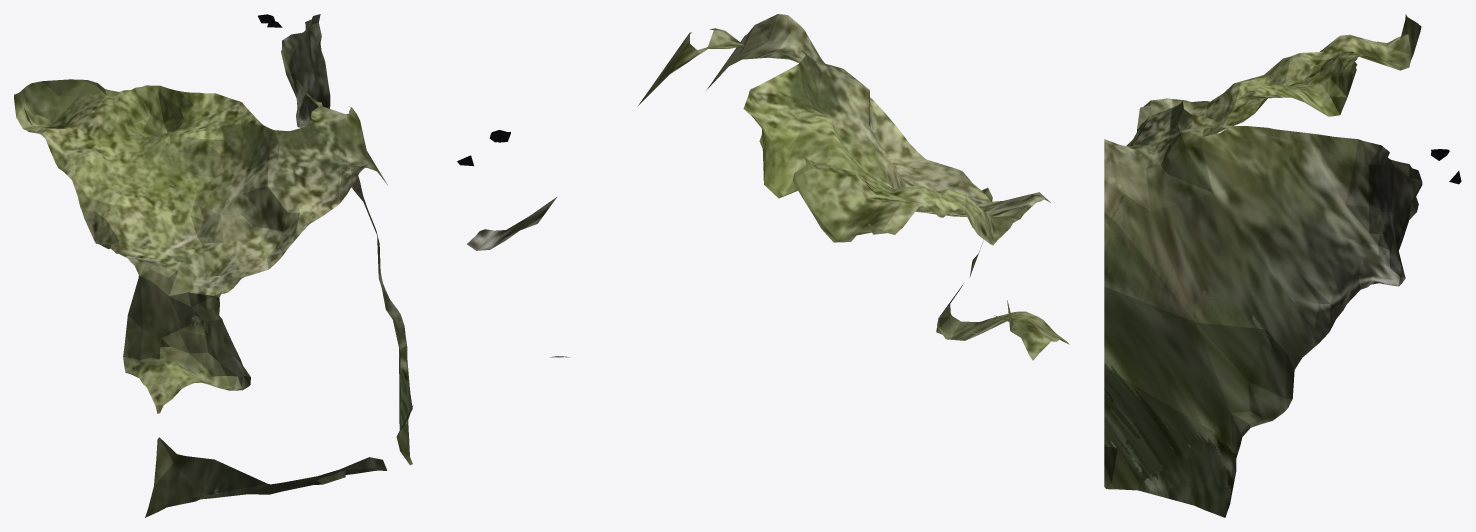
The picture shows the model from 3 angles, left to right: view 1: azimuth 30°, elevation 25°; view 2: azimuth 150°, elevation 25°; view 3: azimuth 270°, elevation 25°; orthographic projection. The views are drawn at different scales.
Bounding box in the file's own units: 2.95 × 2.95 × 2.78.
3 materials, 3 textured.
